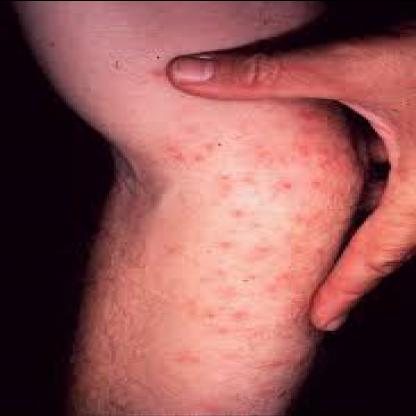Fire ant: (166, 142, 212, 168), (219, 169, 252, 197), (288, 106, 322, 122), (310, 241, 332, 265), (252, 140, 271, 167), (316, 142, 334, 168), (196, 398, 228, 412), (255, 378, 275, 398), (178, 296, 194, 320), (159, 239, 184, 254), (144, 65, 164, 81), (273, 270, 295, 284), (275, 176, 293, 192), (264, 352, 284, 366), (286, 211, 306, 225), (171, 348, 193, 360), (228, 308, 250, 320), (211, 263, 228, 278), (291, 142, 309, 156), (216, 284, 236, 296), (212, 236, 232, 248), (296, 124, 320, 134), (252, 240, 271, 251), (226, 206, 246, 216), (216, 349, 238, 358), (209, 323, 225, 334), (306, 176, 321, 186)
